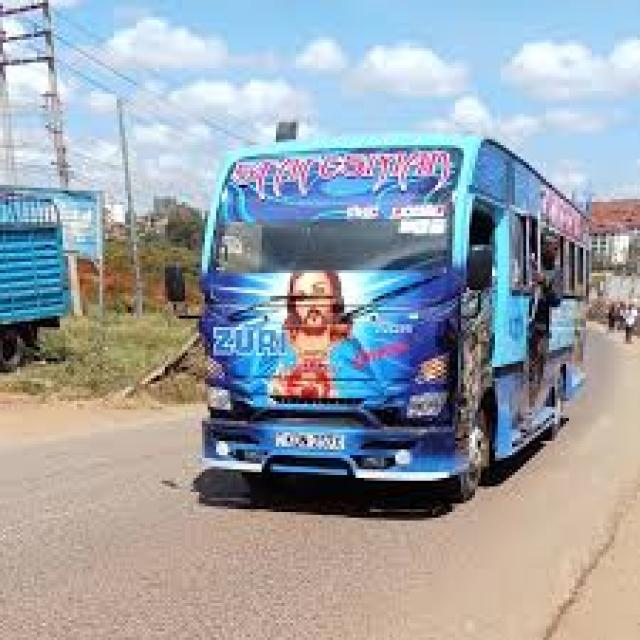bus: (114, 77, 617, 532)
